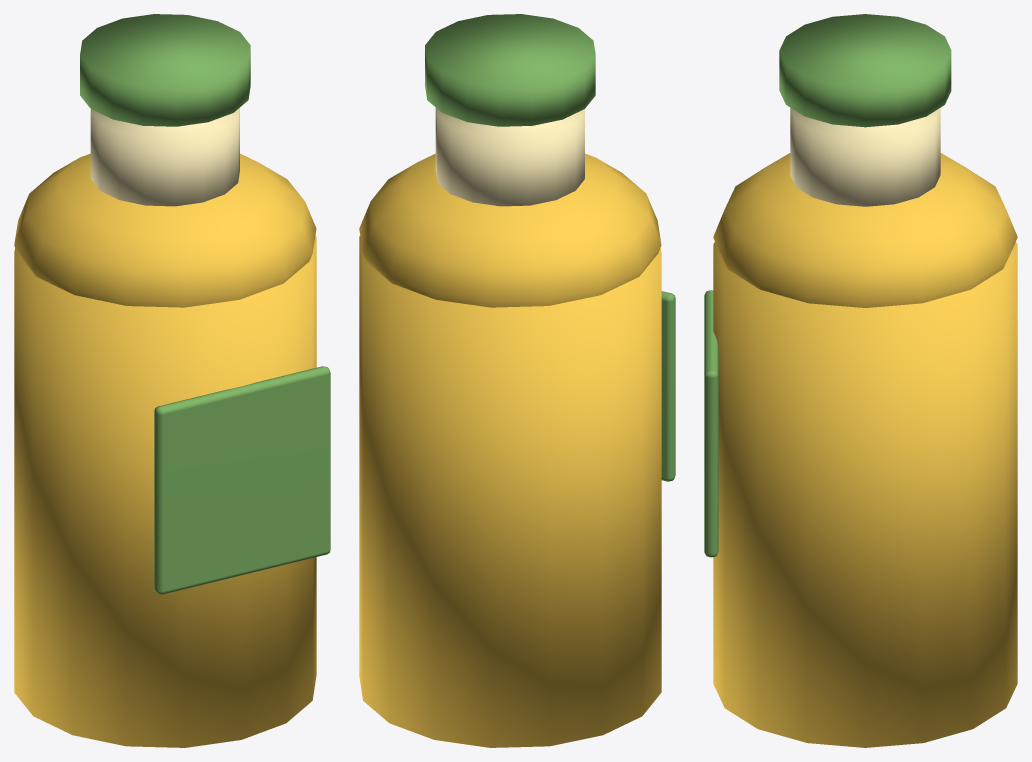
File: SaladOil.fbx
The picture shows the model from 3 angles, left to right: view 1: azimuth 30°, elevation 25°; view 2: azimuth 150°, elevation 25°; view 3: azimuth 270°, elevation 25°; orthographic projection.
Parts seen in each view (by area): view 1: Oil_Bottle, Oil_GreenLabel, Oil_Shoulder, Oil_Cap, Oil_Neck; view 2: Oil_Bottle, Oil_Shoulder, Oil_Cap, Oil_Neck, Oil_GreenLabel; view 3: Oil_Bottle, Oil_Shoulder, Oil_Cap, Oil_Neck, Oil_GreenLabel.
Boxes of the visible parts, x1,y1,x2,y2 form: Oil_Bottle: (14,235,316,747); Oil_GreenLabel: (154,366,330,594); Oil_Shoulder: (14,153,316,307); Oil_Cap: (80,14,250,126); Oil_Neck: (90,108,239,206); Oil_Bottle: (359,236,661,747); Oil_Shoulder: (359,153,661,307); Oil_Cap: (425,14,595,126); Oil_Neck: (435,108,584,206); Oil_GreenLabel: (661,291,675,481); Oil_Bottle: (713,242,1017,747); Oil_Shoulder: (713,153,1017,307); Oil_Cap: (779,14,951,127); Oil_Neck: (790,108,940,206); Oil_GreenLabel: (704,290,718,557).
Bounding box in the file's own units: 0.17 × 0.39 × 0.175.
